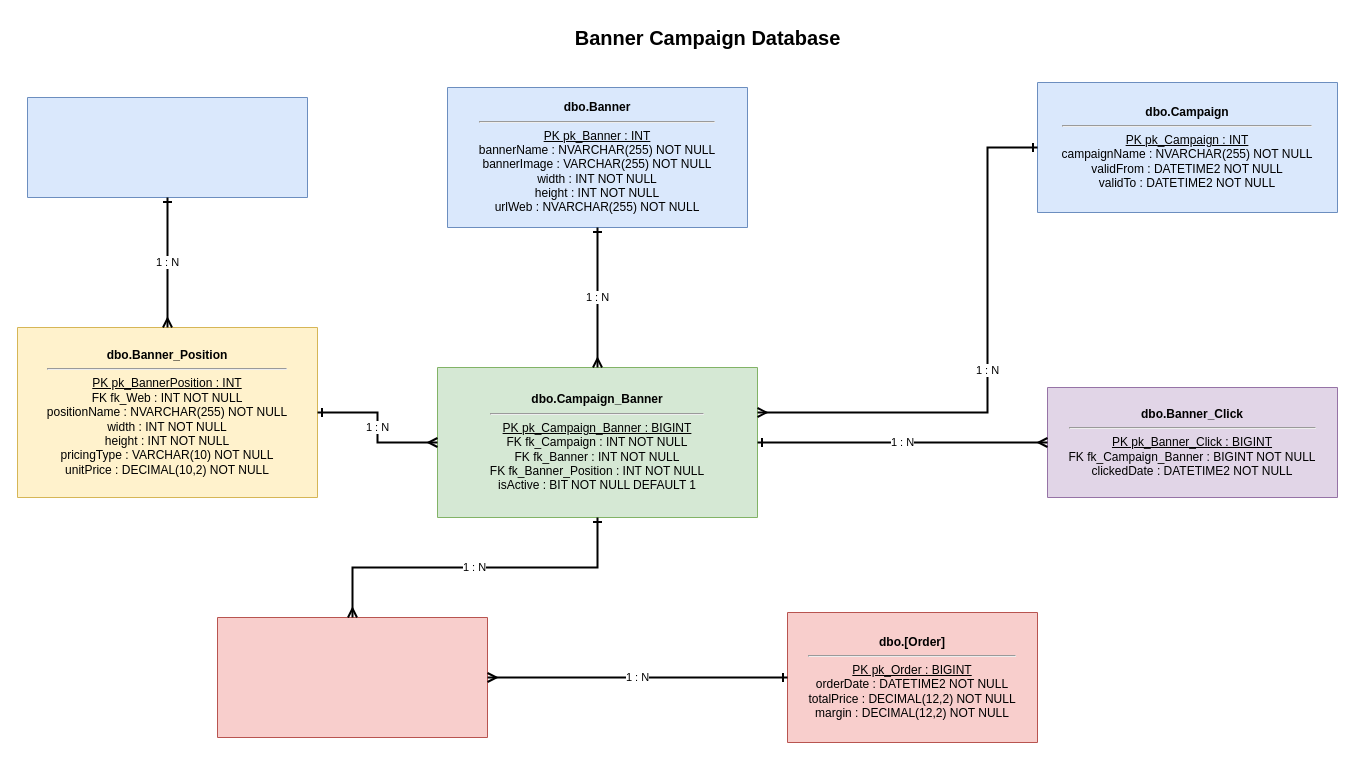
The diagram is 1355 pixels wide and 760 high, and some of its shapes have lost their labels. The shapes that lost their labels are listed below. From the top down, each one's centre as x and y in pixels, then its label:
the point at 167,147: dbo.Website PK pk_Web : INT webName : NVARCHAR(255) NOT NULL
the point at 352,677: dbo.Order_Banner PK fk_Order : BIGINT PK fk_Campaign_Banner : BIGINT
